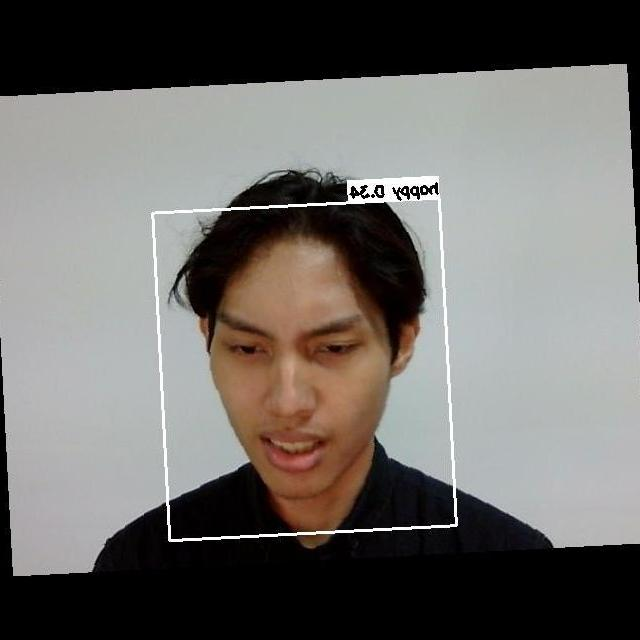Fear: (199, 277, 393, 482)
